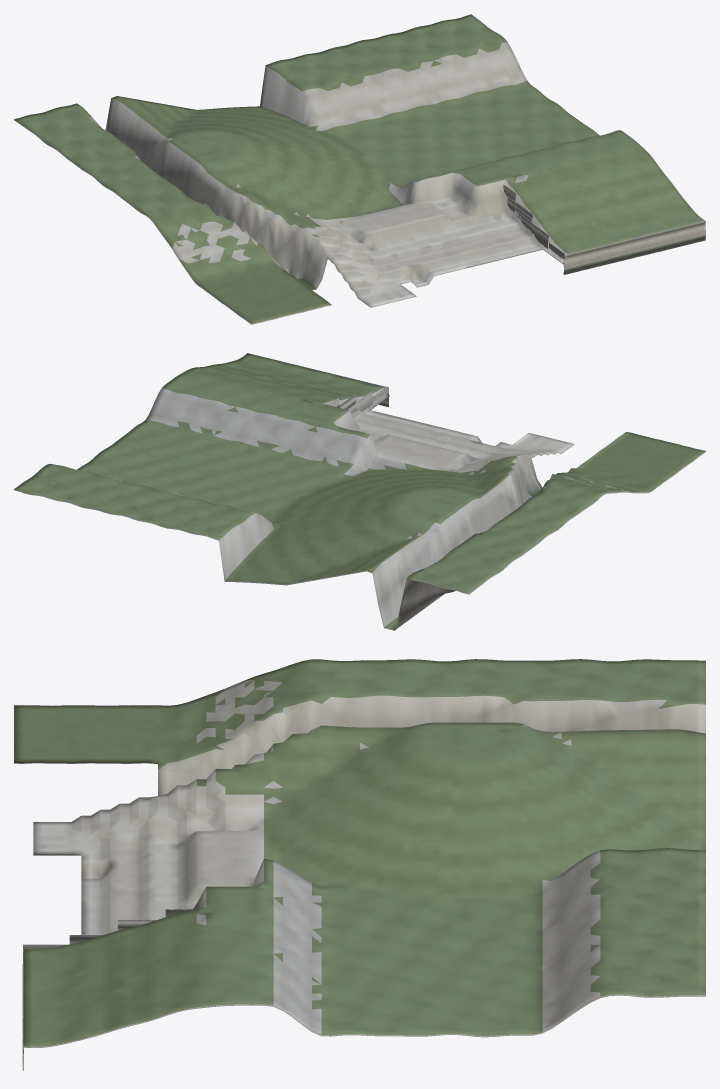
Rendered from rock.glb.
3 views of the same model, one above another, from view 1: azimuth 30°, elevation 25°; view 2: azimuth 150°, elevation 25°; view 3: azimuth 270°, elevation 25° (orthographic). The views are drawn at different scales.
Visible parts, largest first — view 1: rock, north_shore; view 2: rock; view 3: rock.
Boxes of the visible parts, left/top/right/bottom form: rock: left=14, top=14, right=705, bottom=324; north_shore: left=563, top=221, right=705, bottom=274; rock: left=14, top=353, right=705, bottom=630; rock: left=14, top=659, right=705, bottom=1047.
Size of the model in its own units: 800 by 106 by 720.
